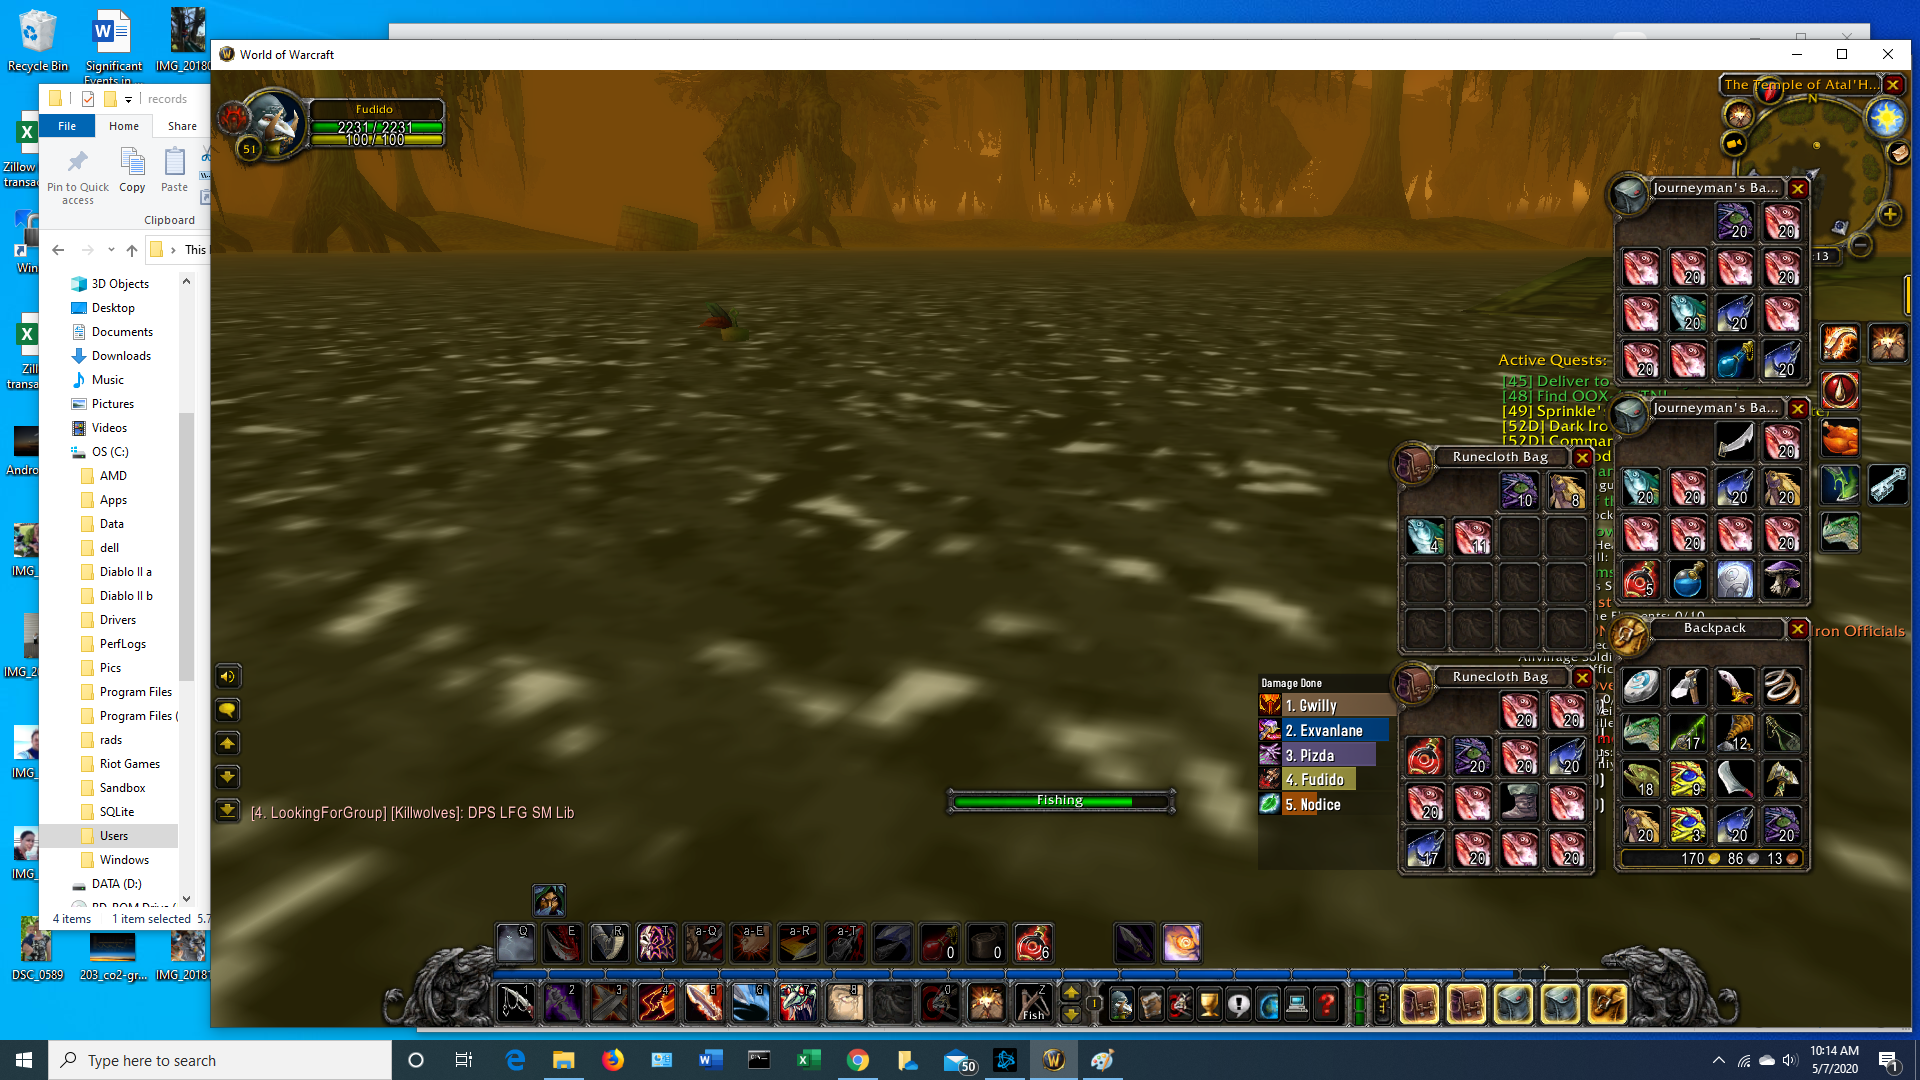bobber: (696, 298, 757, 349)
